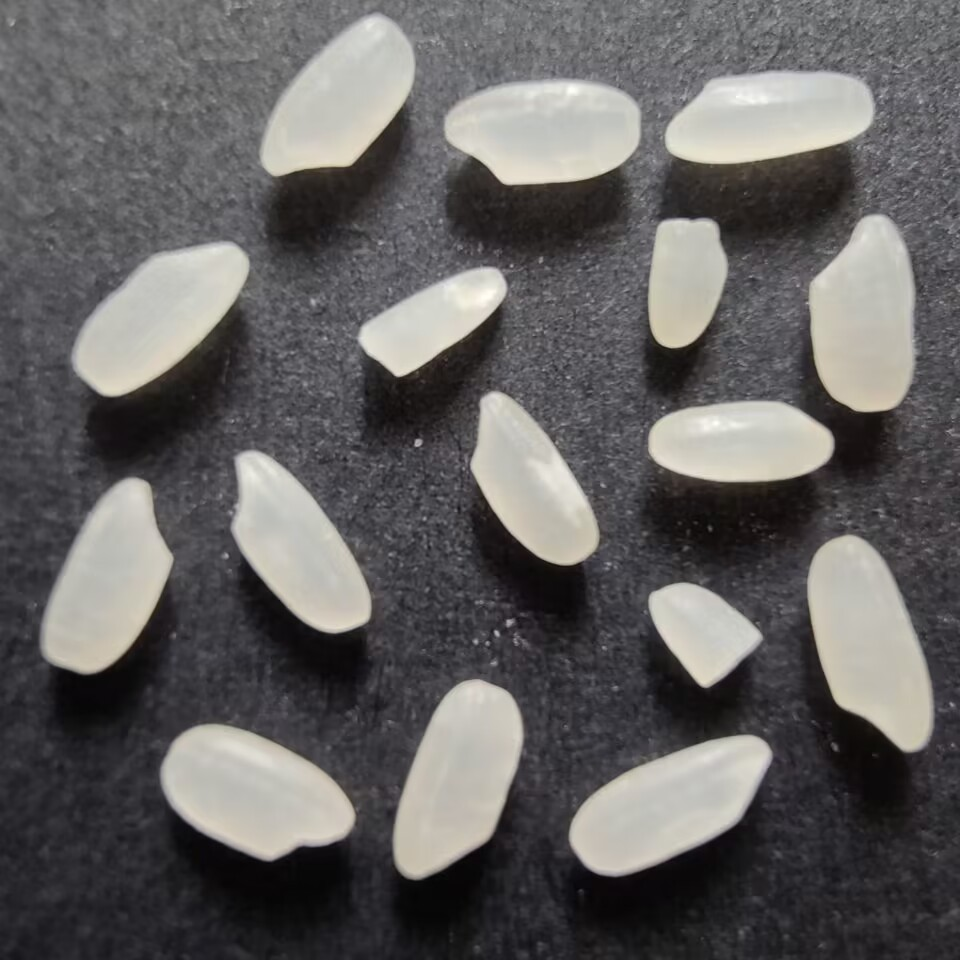broken: (349, 264, 508, 379), (642, 580, 765, 691), (640, 212, 734, 350)
rice: (69, 239, 252, 407), (562, 733, 772, 876), (36, 469, 176, 682), (227, 448, 381, 641), (154, 718, 361, 861), (253, 8, 421, 184), (805, 530, 934, 752), (390, 674, 527, 883), (464, 386, 602, 570), (804, 211, 917, 417), (439, 77, 646, 186), (662, 66, 879, 169), (642, 397, 837, 484)
